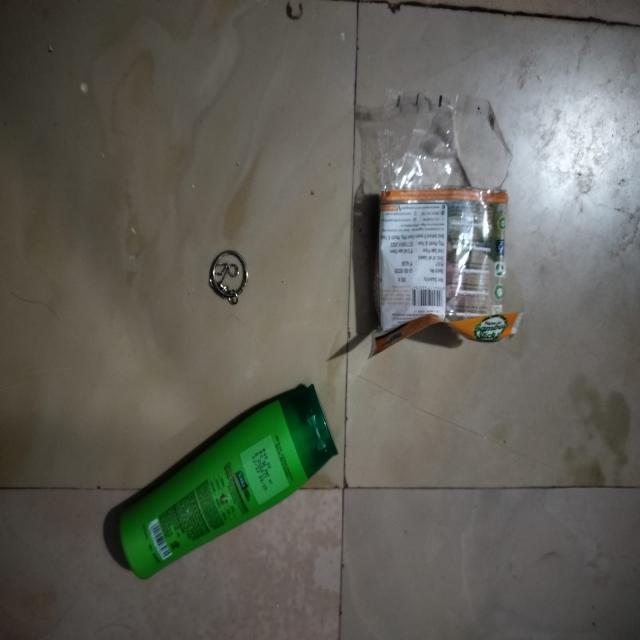metal: (207, 248, 249, 306)
plastic: (116, 380, 339, 582), (374, 87, 523, 356)
